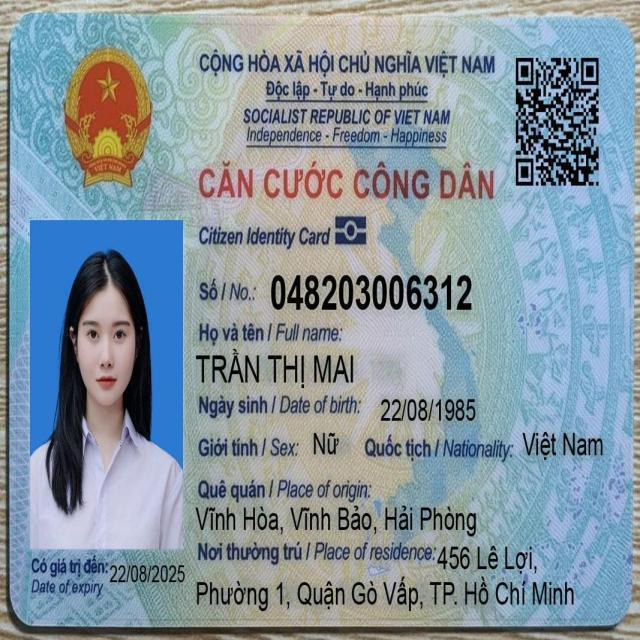current_place: (193, 575, 579, 619), (435, 541, 540, 577)
dob: (378, 394, 479, 426)
expire_date: (107, 559, 187, 588)
gender: (310, 426, 342, 461)
id: (267, 266, 475, 317)
name: (194, 345, 356, 392)
nationality: (519, 425, 607, 464)
origin_place: (194, 501, 478, 540)
